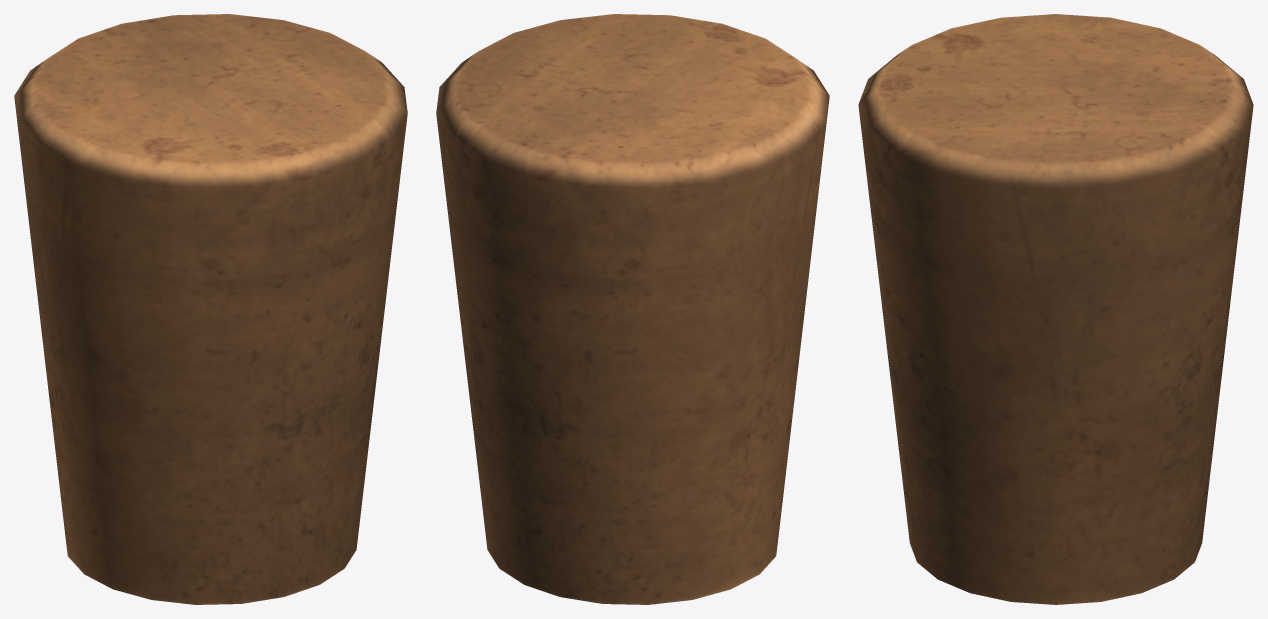
Rendered from SM_OliveOilBottle_SM_OliveOilBottle_Cap.fbx.
3 views of the same model, side by side, from view 1: azimuth 30°, elevation 25°; view 2: azimuth 150°, elevation 25°; view 3: azimuth 270°, elevation 25° (orthographic).
Visible parts, largest first — view 1: SM_OliveOilBottle_SM_OliveOilBottle_Cap_LOD0; view 2: SM_OliveOilBottle_SM_OliveOilBottle_Cap_LOD0; view 3: SM_OliveOilBottle_SM_OliveOilBottle_Cap_LOD0.
Boxes of the visible parts, x1,y1,x2,y2 form: SM_OliveOilBottle_SM_OliveOilBottle_Cap_LOD0: (14,14,407,604); SM_OliveOilBottle_SM_OliveOilBottle_Cap_LOD0: (436,14,829,604); SM_OliveOilBottle_SM_OliveOilBottle_Cap_LOD0: (858,14,1253,604).
Bounding box in the file's own units: 4.5 × 4.5 × 5.7.
1 material, 1 textured.
